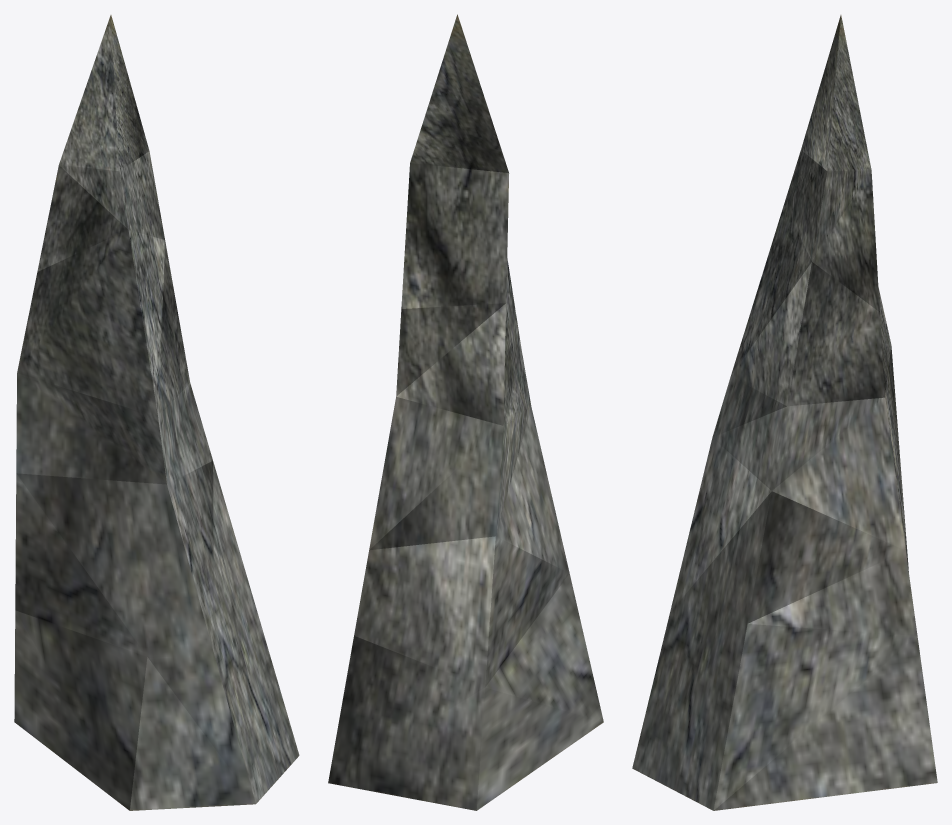
3 renders of one model, left to right at view 1: azimuth 30°, elevation 25°; view 2: azimuth 150°, elevation 25°; view 3: azimuth 270°, elevation 25°, orthographic. The views are drawn at different scales.
Visible parts, largest first — view 1: Object27, Object32, Object33, Object31, Object29, Object28; view 2: Object27, Object31, Object34, Object29, Object32, Object30, Object28, Object33; view 3: Object27, Object31, Object32, Object30, Object35, Object29, Object33, Object34, Object28.
Boxes of the visible parts, bbox=[...] form: Object27: bbox=[14, 583, 299, 810]; Object32: bbox=[15, 461, 248, 656]; Object33: bbox=[17, 230, 189, 416]; Object31: bbox=[16, 373, 212, 484]; Object29: bbox=[37, 151, 164, 271]; Object28: bbox=[59, 15, 149, 171]; Object27: bbox=[328, 574, 603, 810]; Object31: bbox=[369, 351, 531, 550]; Object34: bbox=[354, 536, 495, 687]; Object29: bbox=[401, 163, 509, 308]; Object32: bbox=[485, 407, 569, 686]; Object30: bbox=[396, 303, 506, 425]; Object28: bbox=[410, 14, 508, 172]; Object33: bbox=[503, 258, 521, 425]; Object27: bbox=[632, 613, 937, 810]; Object31: bbox=[712, 346, 905, 550]; Object32: bbox=[670, 438, 771, 623]; Object30: bbox=[787, 262, 891, 406]; Object35: bbox=[747, 491, 905, 623]; Object29: bbox=[784, 150, 879, 311]; Object33: bbox=[731, 204, 811, 405]; Object34: bbox=[748, 454, 917, 635]; Object28: bbox=[801, 15, 871, 171].
Size of the model in its own units: 42.9 by 153 by 57.63.
1 material, 1 textured.
